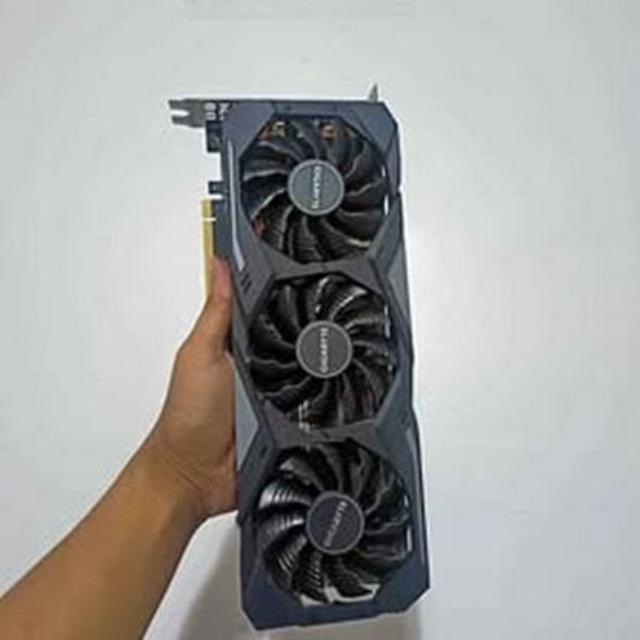GPU: (195, 80, 440, 618)
